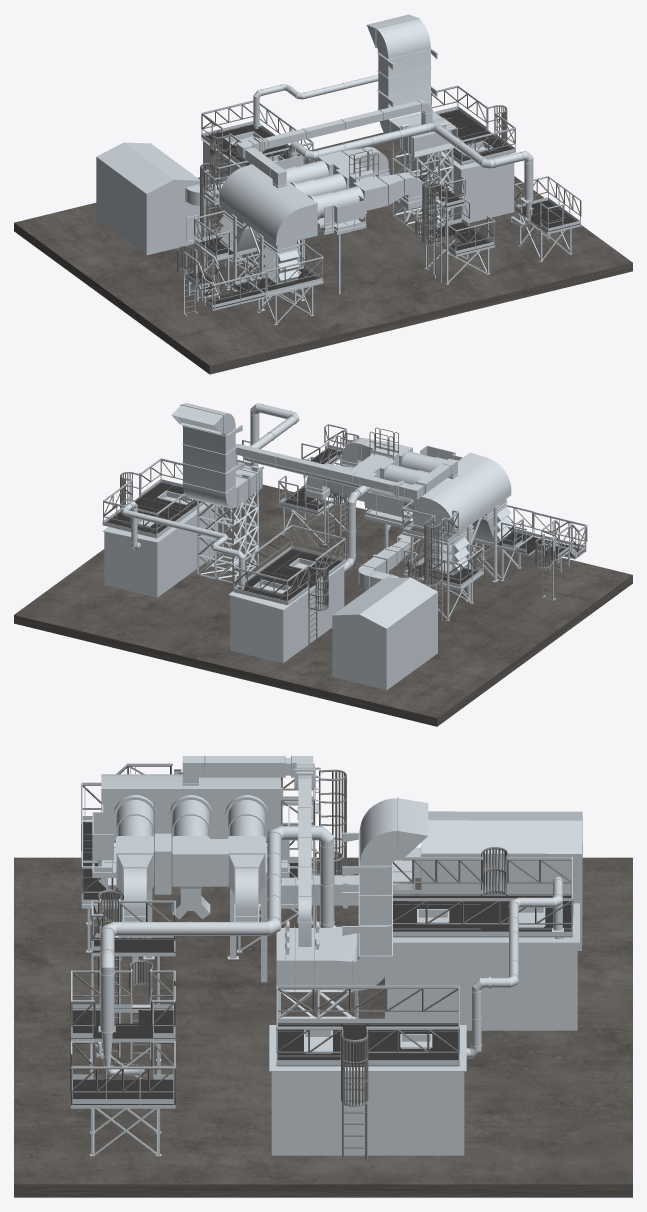
The model's file is gas_turbine_unit.glb.
The picture shows the model from 3 angles, top to bottom: view 1: azimuth 30°, elevation 25°; view 2: azimuth 150°, elevation 25°; view 3: azimuth 270°, elevation 25°; orthographic projection. The views are drawn at different scales.
Parts seen in each view (by area): view 1: pad_0, intake_0, switchgear_0, access_2, stack_0, turbine_0, access_0, access_1, fueltank_0, fuelpipe_0, antiicing_0, fuelskid_0; view 2: pad_0, switchgear_0, intake_0, stack_0, access_2, fuelskid_0, fueltank_0, turbine_0, access_1, fuelpipe_0, access_0, antiicing_0; view 3: pad_0, fueltank_0, fuelskid_0, turbine_0, access_2, access_1, stack_0, switchgear_0, fuelpipe_0, intake_0, access_0, antiicing_0.
Part boxes in pixels (x1=…): pad_0: x1=14, y1=132, x2=632, y2=374; intake_0: x1=194, y1=146, x2=323, y2=325; switchgear_0: x1=96, y1=142, x2=224, y2=255; access_2: x1=177, y1=87, x2=581, y2=313; stack_0: x1=367, y1=14, x2=457, y2=233; turbine_0: x1=248, y1=140, x2=422, y2=301; access_0: x1=177, y1=159, x2=581, y2=316; access_1: x1=185, y1=109, x2=580, y2=308; fueltank_0: x1=400, y1=85, x2=515, y2=222; fuelpipe_0: x1=210, y1=75, x2=533, y2=228; antiicing_0: x1=236, y1=100, x2=432, y2=188; fuelskid_0: x1=201, y1=100, x2=313, y2=207; pad_0: x1=14, y1=484, x2=632, y2=726; switchgear_0: x1=332, y1=533, x2=437, y2=690; intake_0: x1=402, y1=452, x2=533, y2=620; stack_0: x1=171, y1=403, x2=262, y2=583; access_2: x1=103, y1=425, x2=587, y2=644; fuelskid_0: x1=228, y1=525, x2=345, y2=663; fueltank_0: x1=102, y1=458, x2=218, y2=597; turbine_0: x1=306, y1=437, x2=462, y2=586; access_1: x1=104, y1=448, x2=584, y2=603; fuelpipe_0: x1=120, y1=403, x2=370, y2=610; access_0: x1=218, y1=424, x2=587, y2=600; antiicing_0: x1=235, y1=444, x2=457, y2=531; pad_0: x1=14, y1=857, x2=632, y2=1197; fueltank_0: x1=269, y1=985, x2=466, y2=1157; fuelskid_0: x1=385, y1=856, x2=579, y2=1030; turbine_0: x1=81, y1=764, x2=313, y2=982; access_2: x1=70, y1=765, x2=573, y2=1158; access_1: x1=71, y1=821, x2=571, y2=1104; stack_0: x1=276, y1=796, x2=428, y2=1018; switchgear_0: x1=258, y1=811, x2=582, y2=950; fuelpipe_0: x1=96, y1=825, x2=564, y2=1106; intake_0: x1=81, y1=755, x2=346, y2=952; access_0: x1=71, y1=763, x2=182, y2=1156; antiicing_0: x1=182, y1=756, x2=315, y2=946.
Bounding box in the file's own units: 5.25 × 2.22 × 4.21.
4 materials, 4 textured.
